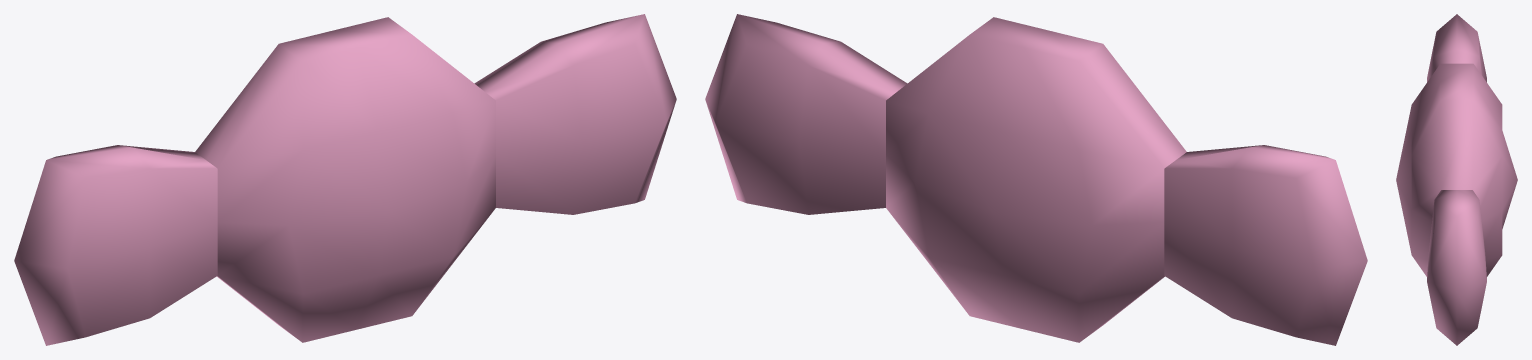
File: bonbonRose.fbx
The picture shows the model from 3 angles, left to right: view 1: azimuth 30°, elevation 25°; view 2: azimuth 150°, elevation 25°; view 3: azimuth 270°, elevation 25°; orthographic projection. The views are drawn at different scales.
Visible parts, largest first — view 1: bonbon3; view 2: bonbon3; view 3: bonbon3.
Boxes of the visible parts, x1,y1,x2,y2 form: bonbon3: (14,14,676,345); bonbon3: (705,14,1367,345); bonbon3: (1396,14,1517,345).
Size of the model in its own units: 109 by 44.08 by 24.9.
